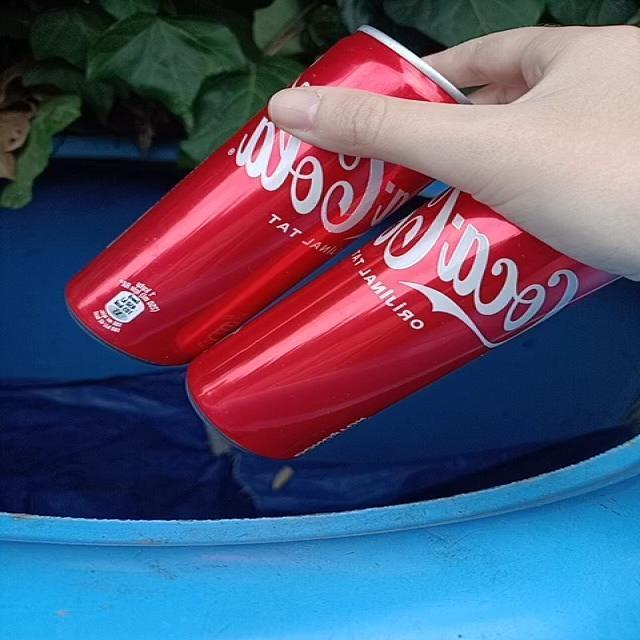Bin: (0, 139, 637, 640)
Metal: (188, 190, 617, 460), (65, 110, 428, 366), (296, 26, 467, 102)
